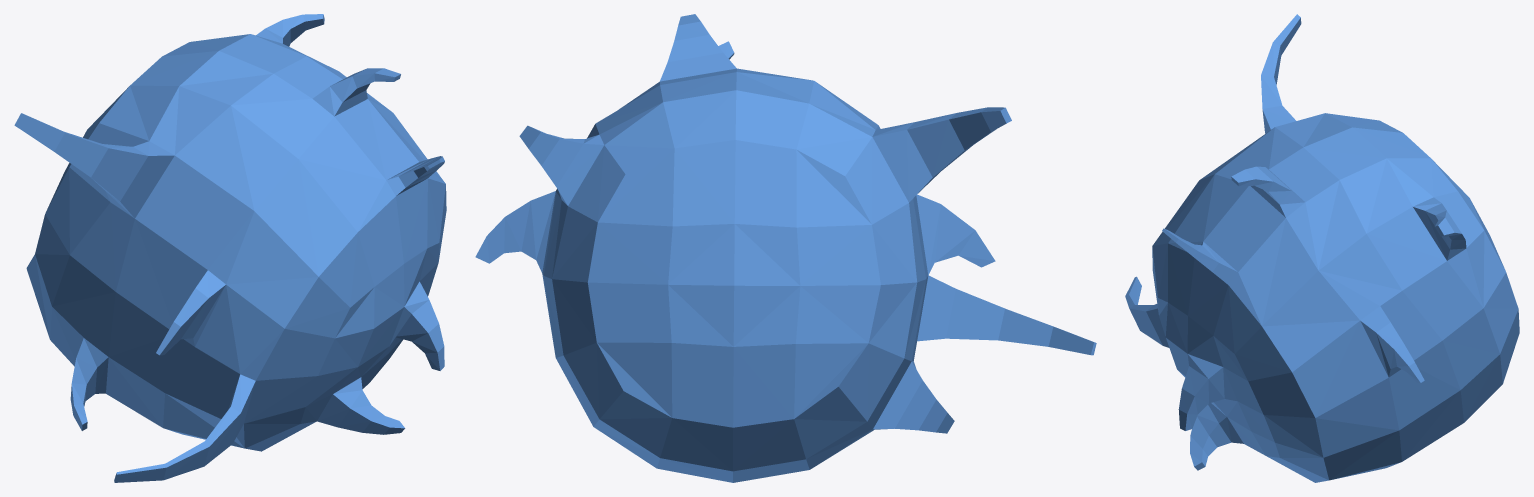
File: Cell_01.fbx
The picture shows the model from 3 angles, left to right: view 1: azimuth 30°, elevation 25°; view 2: azimuth 150°, elevation 25°; view 3: azimuth 270°, elevation 25°; orthographic projection. The views are drawn at different scales.
Parts seen in each view (by area): view 1: Cell_01; view 2: Cell_01; view 3: Cell_01.
Part boxes in pixels (x1,y1,x2,y2): Cell_01: (14,14,446,482); Cell_01: (475,14,1096,482); Cell_01: (1125,14,1519,482).
Bounding box in the file's own units: 590 × 484 × 508.
